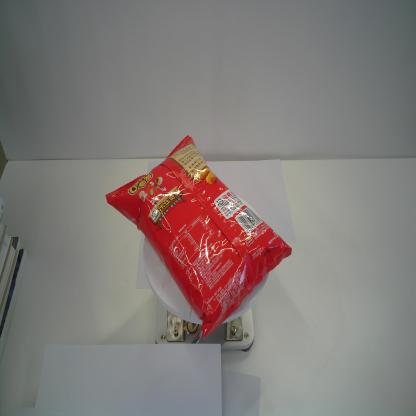Puffed Food: (105, 133, 293, 339)
